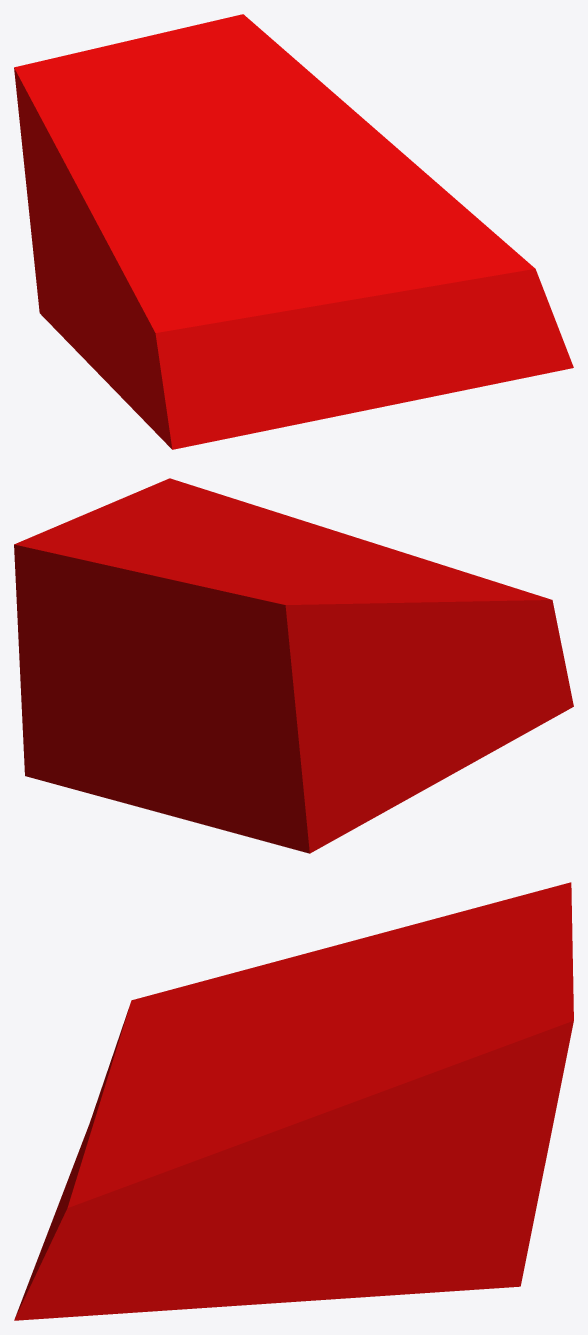
The model's file is SM_Env_RoadPiece_Damaged_09_Collision.fbx.
3 views of the same model, one above another, from view 1: azimuth 30°, elevation 25°; view 2: azimuth 150°, elevation 25°; view 3: azimuth 270°, elevation 25° (orthographic). The views are drawn at different scales.
Parts seen in each view (by area): view 1: SM_Env_RoadPiece_Damaged_09_Collision; view 2: SM_Env_RoadPiece_Damaged_09_Collision; view 3: SM_Env_RoadPiece_Damaged_09_Collision.
Part boxes in pixels (left/top/right/bottom): SM_Env_RoadPiece_Damaged_09_Collision: left=14, top=14, right=573, bottom=449; SM_Env_RoadPiece_Damaged_09_Collision: left=14, top=478, right=573, bottom=853; SM_Env_RoadPiece_Damaged_09_Collision: left=14, top=882, right=573, bottom=1320.
Bounding box in the file's own units: 195 × 116 × 215.
